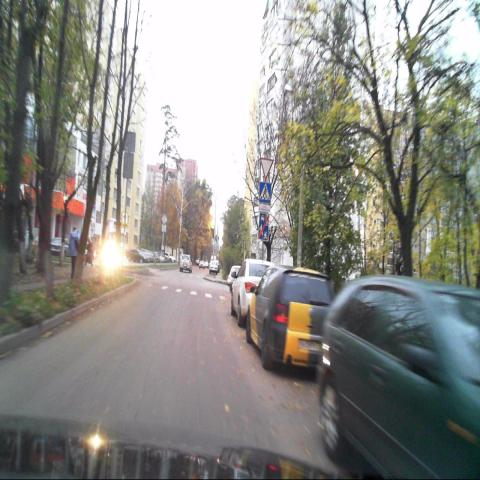5_22: (258, 215, 269, 241)
